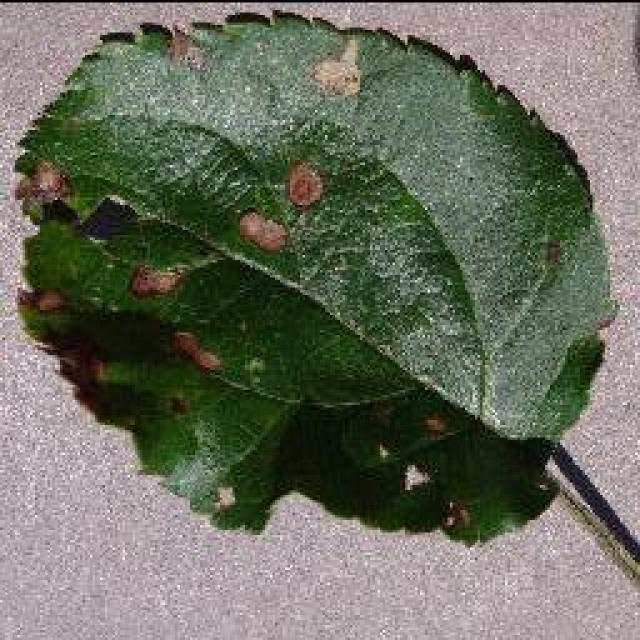Black_rot: (10, 7, 638, 595)
